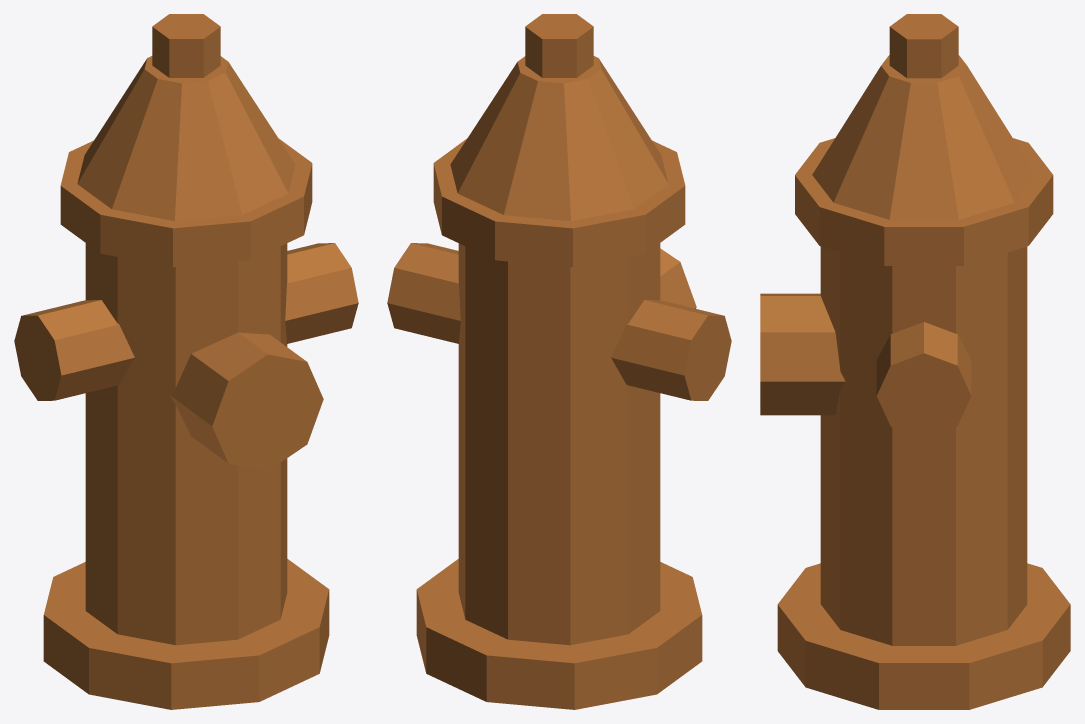
The model's file is objet_borne_orange.glb.
3 views of the same model, side by side, from view 1: azimuth 30°, elevation 25°; view 2: azimuth 150°, elevation 25°; view 3: azimuth 270°, elevation 25° (orthographic).
Parts seen in each view (by area): view 1: objet_borne_orange; view 2: objet_borne_orange; view 3: objet_borne_orange.
Boxes of the visible parts, left/top/right/bottom form: objet_borne_orange: left=14, top=14, right=358, bottom=709; objet_borne_orange: left=387, top=14, right=731, bottom=709; objet_borne_orange: left=760, top=14, right=1070, bottom=709.
Size of the model in its own units: 0.4 by 0.8 by 0.36.
